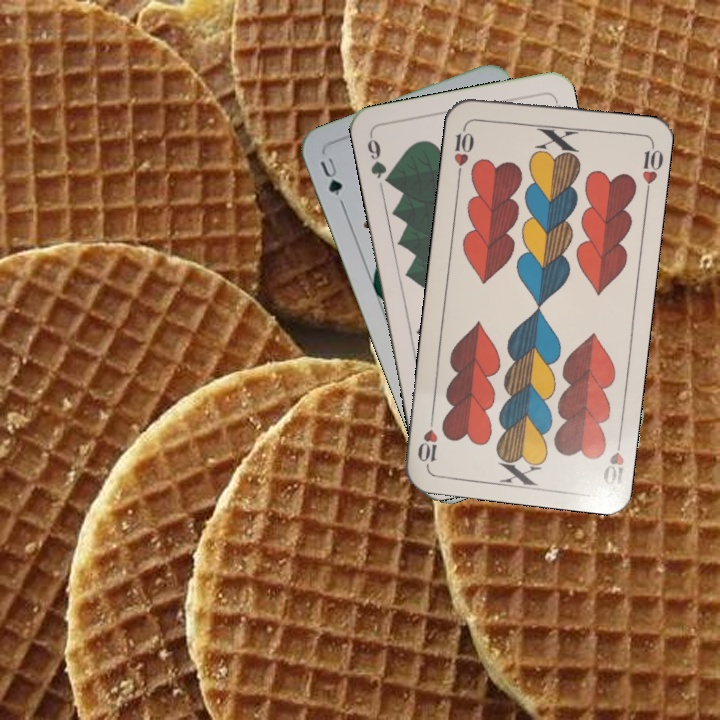G9: (363, 131, 395, 188)
GU: (315, 153, 345, 199)
H10: (598, 430, 627, 488), (450, 120, 477, 179)
